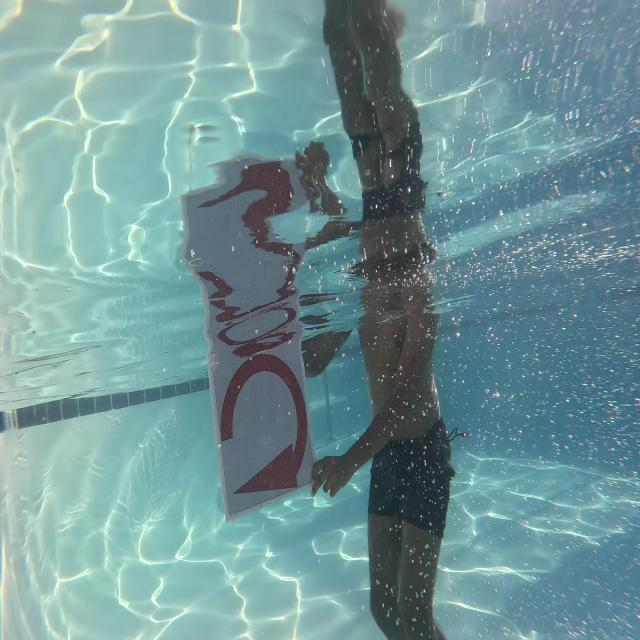red_side: (214, 332, 317, 512)
